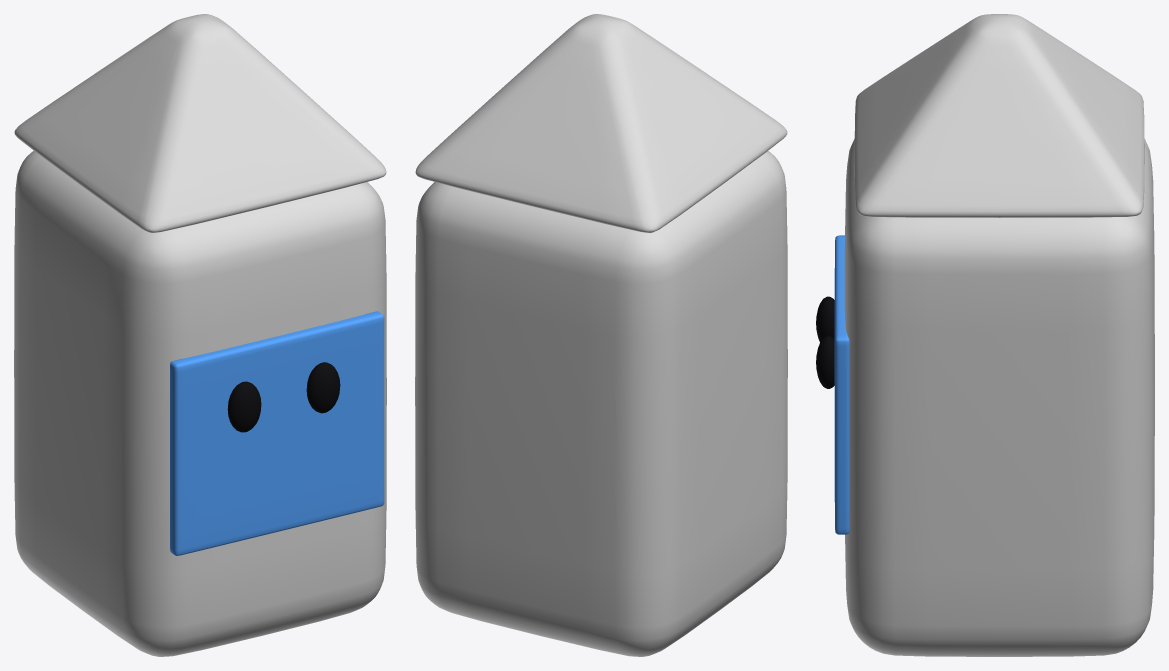
The model's file is Milk.glb.
The picture shows the model from 3 angles, left to right: view 1: azimuth 30°, elevation 25°; view 2: azimuth 150°, elevation 25°; view 3: azimuth 270°, elevation 25°; orthographic projection. The views are drawn at different scales.
Parts seen in each view (by area): view 1: Cube, Cone, Cube.001, Sphere, Sphere.001; view 2: Cube, Cone; view 3: Cube, Cone, Cube.001, Sphere.001, Sphere.
Boxes of the visible parts, x1,y1,x2,y2 form: Cube: (14,151,386,656); Cone: (14,14,386,232); Cube.001: (170,311,384,555); Sphere: (227,381,261,432); Sphere.001: (306,362,340,413); Cube: (415,151,787,656); Cone: (415,14,787,232); Cube: (844,138,1154,656); Cone: (854,14,1144,217); Cube.001: (834,235,849,534); Sphere.001: (816,336,834,388); Sphere: (816,296,834,342).
Bounding box in the file's own units: 0.1997 × 0.4198 × 0.2179.
